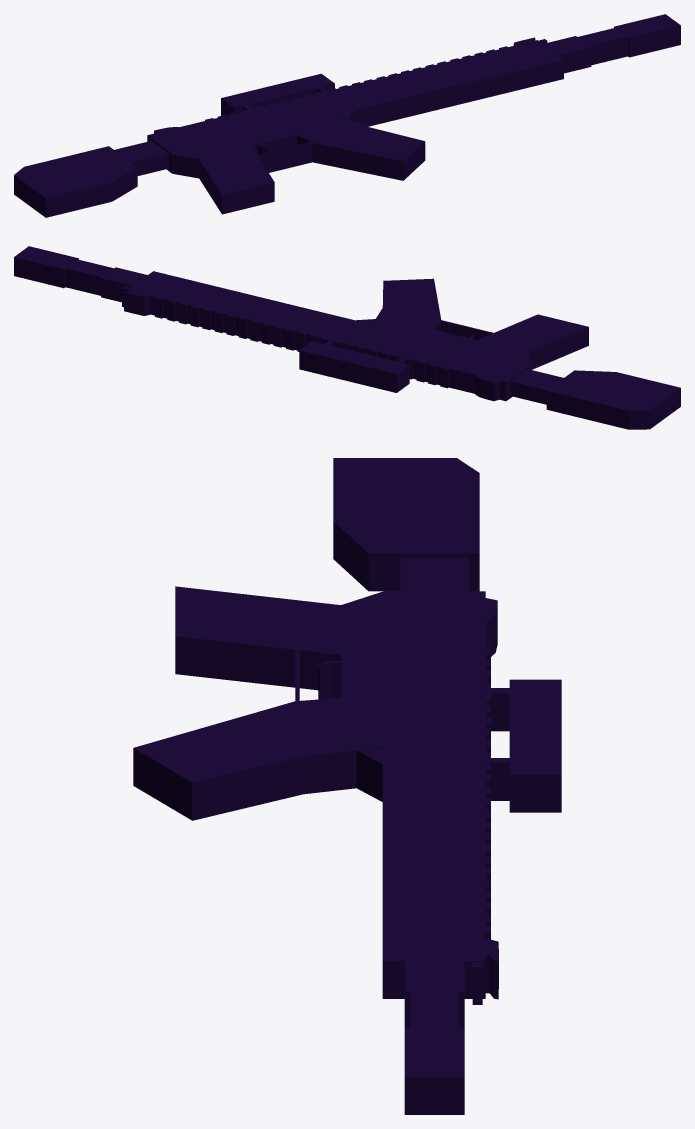
Rendered from rifle0_mat.glb.
The picture shows the model from 3 angles, top to bottom: view 1: azimuth 30°, elevation 25°; view 2: azimuth 150°, elevation 25°; view 3: azimuth 270°, elevation 25°; orthographic projection. The views are drawn at different scales.
Parts seen in each view (by area): view 1: rect2; view 2: rect2; view 3: rect2.
Part boxes in pixels (left/top/right/bottom): rect2: left=14, top=14, right=680, bottom=217; rect2: left=14, top=246, right=680, bottom=429; rect2: left=133, top=458, right=561, bottom=1114.
Bounding box in the file's own units: 0.9305 × 0.0266 × 0.2721.
